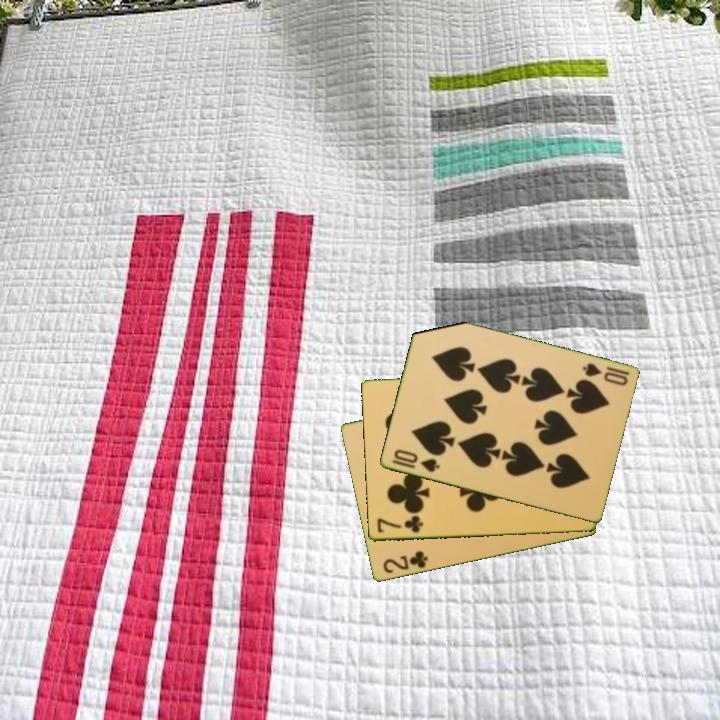10s: (388, 446, 442, 476), (578, 360, 632, 389)
2c: (379, 548, 431, 577)
7c: (373, 513, 426, 536)
